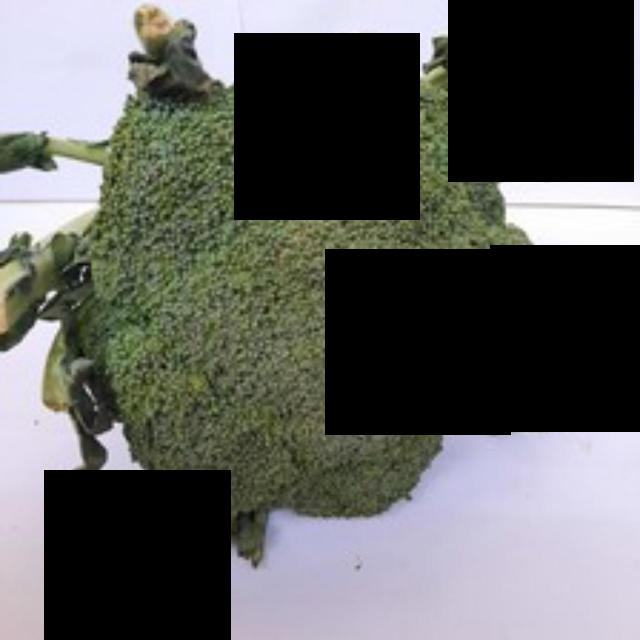broccoli: (78, 32, 556, 551)
